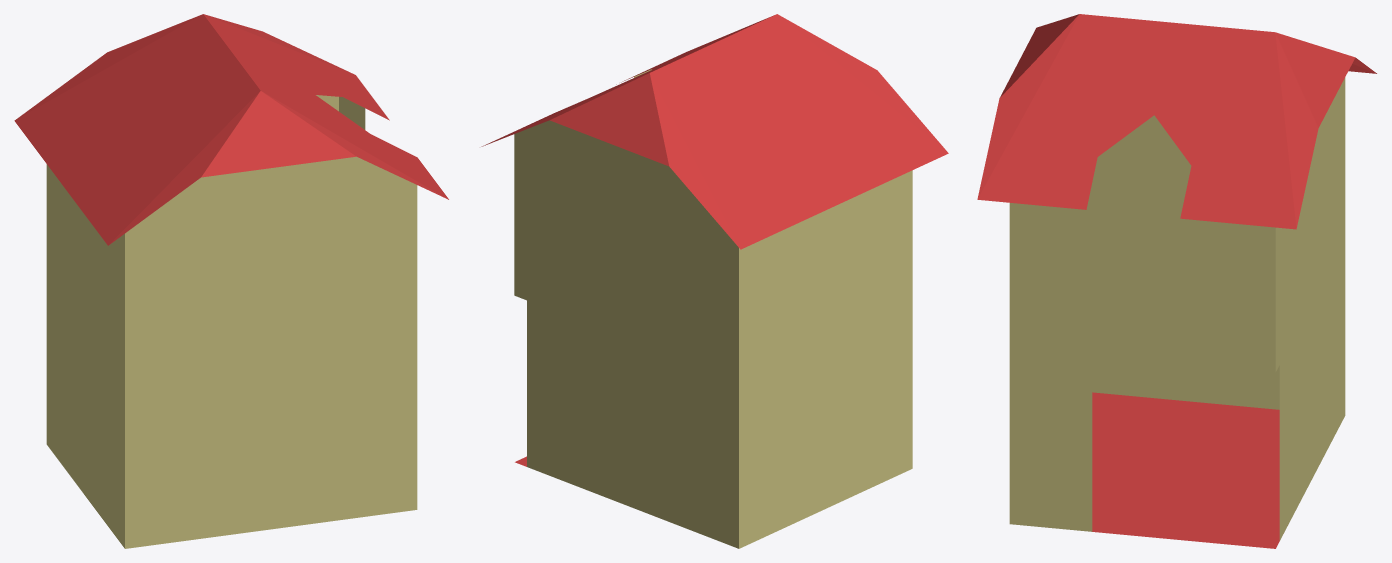
3 renders of one model, left to right at view 1: azimuth 30°, elevation 25°; view 2: azimuth 150°, elevation 25°; view 3: azimuth 270°, elevation 25°, orthographic. The views are drawn at different scales.
Parts seen in each view (by area): view 1: group_5, group_3; view 2: group_5, group_3; view 3: group_5, group_3, group_6, group_4.
Part boxes in pixels (left/top/right/bottom): group_5: left=46, top=95, right=417, bottom=548; group_3: left=14, top=14, right=448, bottom=245; group_5: left=514, top=69, right=912, bottom=548; group_3: left=481, top=14, right=948, bottom=249; group_5: left=1009, top=77, right=1345, bottom=540; group_3: left=977, top=14, right=1376, bottom=229; group_6: left=1092, top=392, right=1279, bottom=548; group_4: left=980, top=178, right=1294, bottom=228.
Size of the model in its own units: 16.08 by 14.68 by 18.09.
